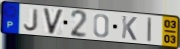0: (92, 13, 110, 39)
2: (69, 9, 88, 39)
I: (147, 16, 154, 44)
J: (23, 8, 40, 33)
K: (121, 15, 138, 42)
V: (42, 7, 66, 36)
